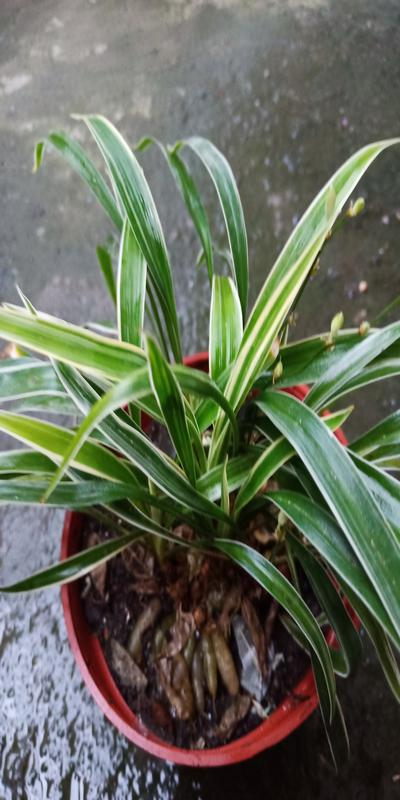Yellow and green leaf: (9, 191, 390, 623)
